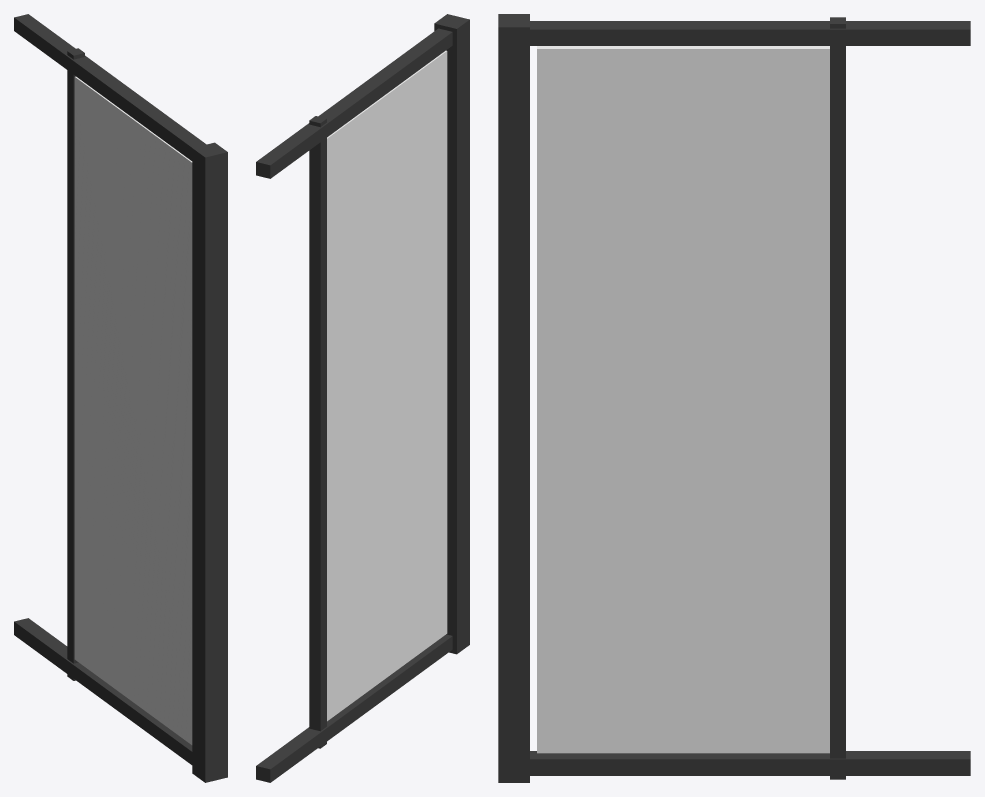
The model's file is billboard_01.fbx.
3 views of the same model, side by side, from view 1: azimuth 30°, elevation 25°; view 2: azimuth 150°, elevation 25°; view 3: azimuth 270°, elevation 25° (orthographic). The views are drawn at different scales.
Parts seen in each view (by area): view 1: billboard_01; view 2: billboard_01; view 3: billboard_01.
Part boxes in pixels (bbox=[...]): billboard_01: bbox=[14, 14, 227, 782]; billboard_01: bbox=[256, 14, 469, 782]; billboard_01: bbox=[498, 14, 970, 782].
Size of the model in its own units: 23.05 by 611 by 346.
Materials: 1 (1 with a texture image).
